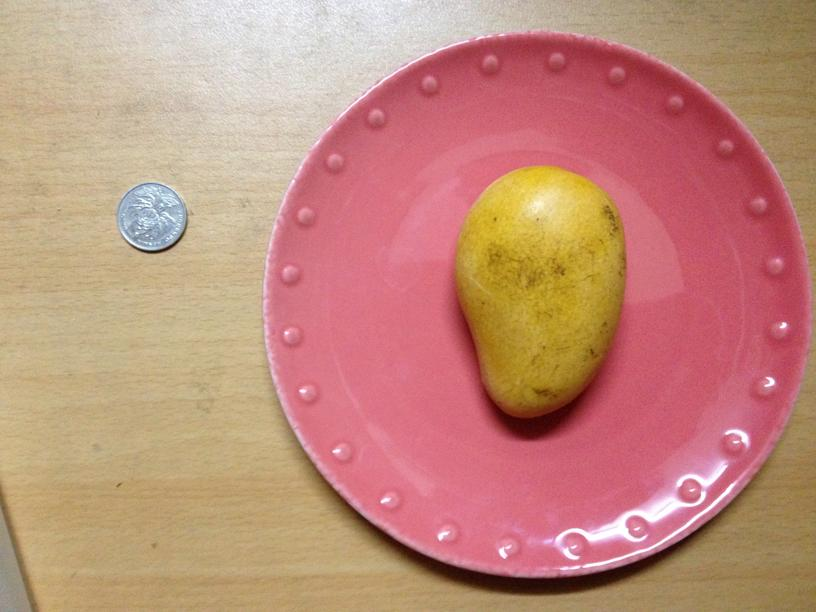coin: (114, 184, 187, 251)
mango: (460, 166, 625, 419)
